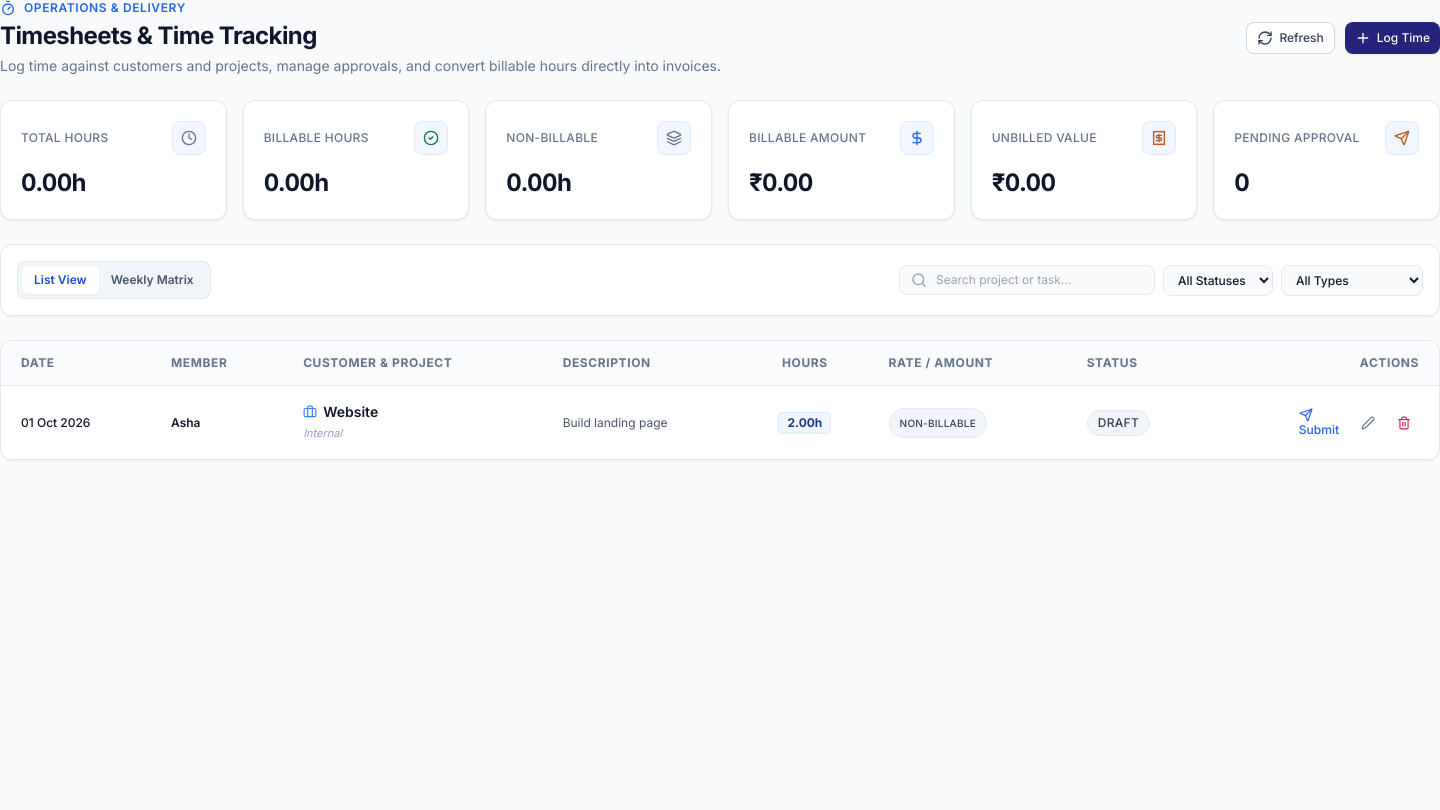
Test: <TimesheetsPage /> delete confirmation › uses the in-app ConfirmDialog (not window.confirm) and deletes on confirm
Check: the text "Build landing page" is shown, box [563,414,668,430]
Click the button named "Delete time entry" at (1404, 422), box [1389,406,1419,438]
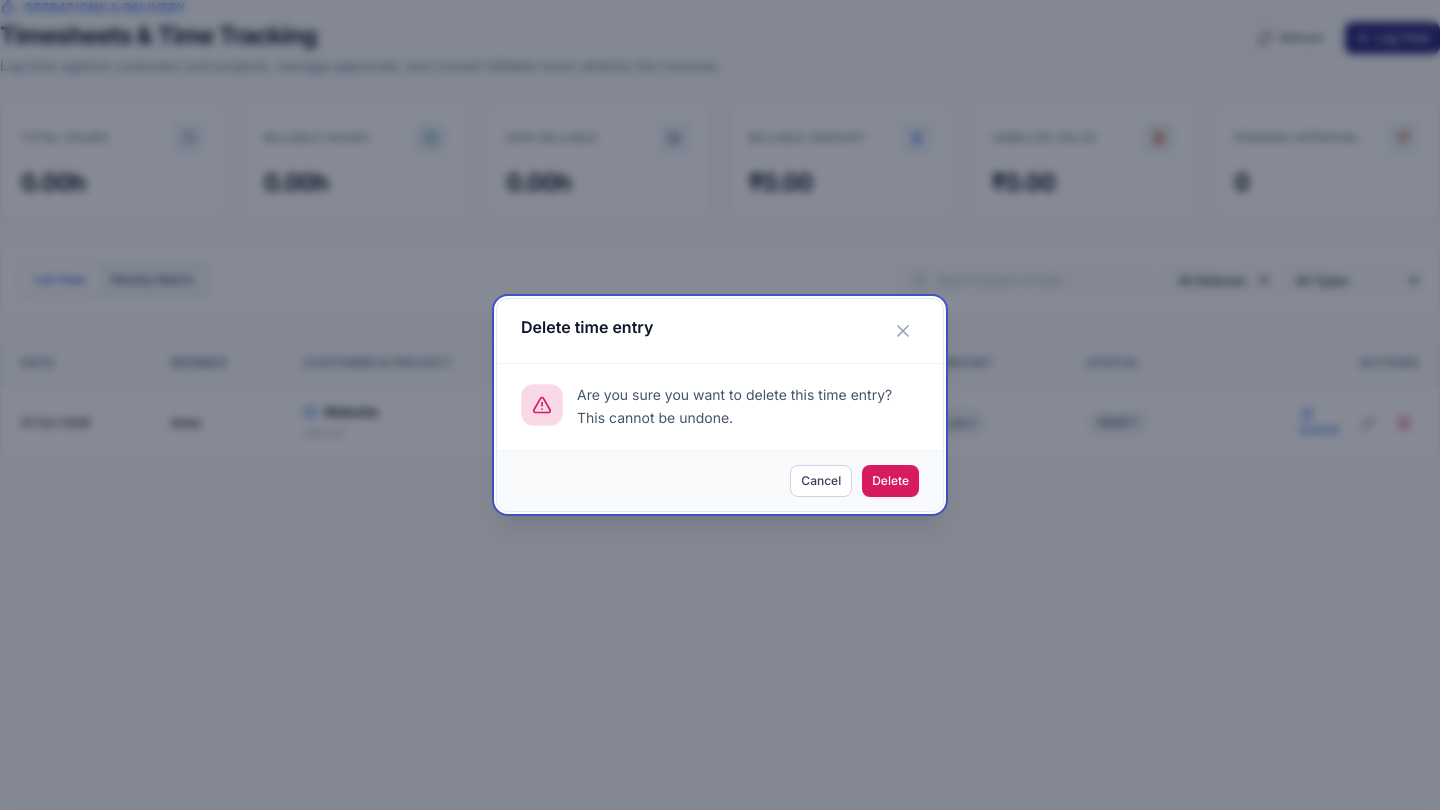
Check: the heading "Delete time entry" is shown, box [521,315,653,339]
Click the button "Delete" at (891, 481), box [862,465,919,497]
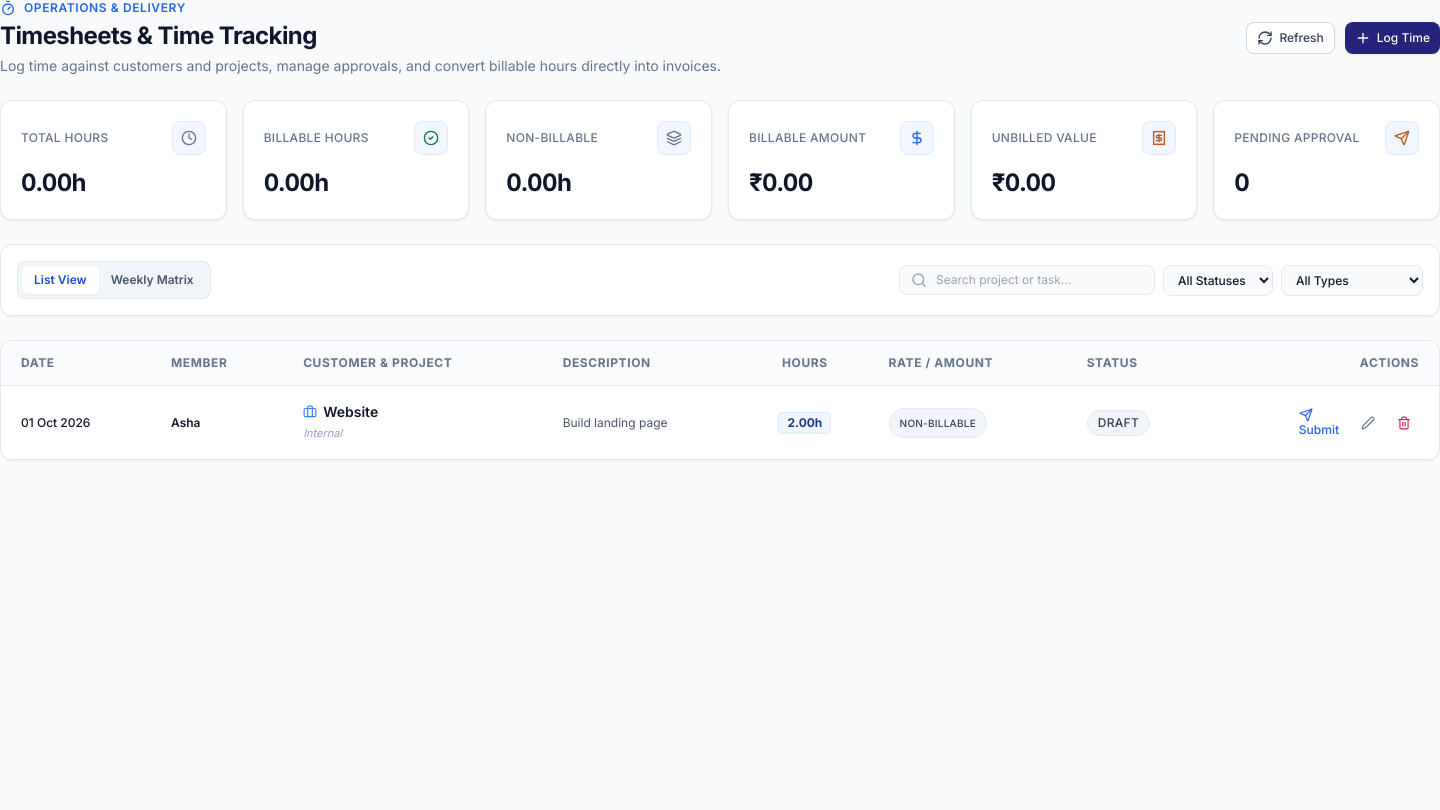
Check: the dialog is gone
